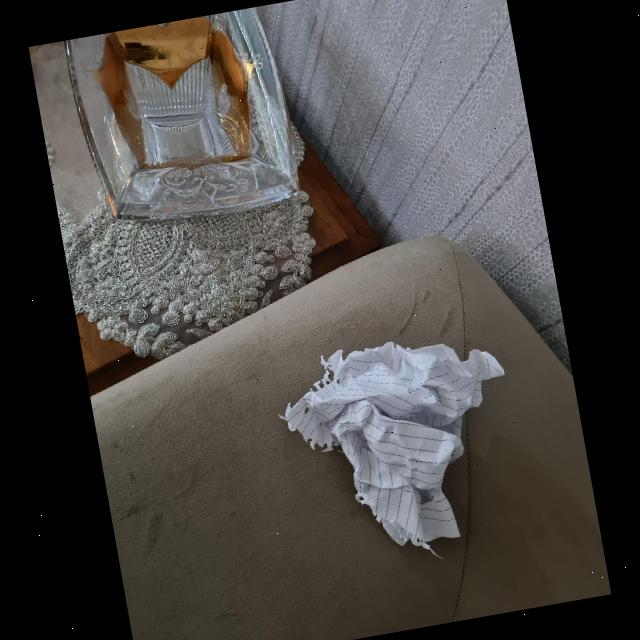trash: (273, 316, 522, 569)
